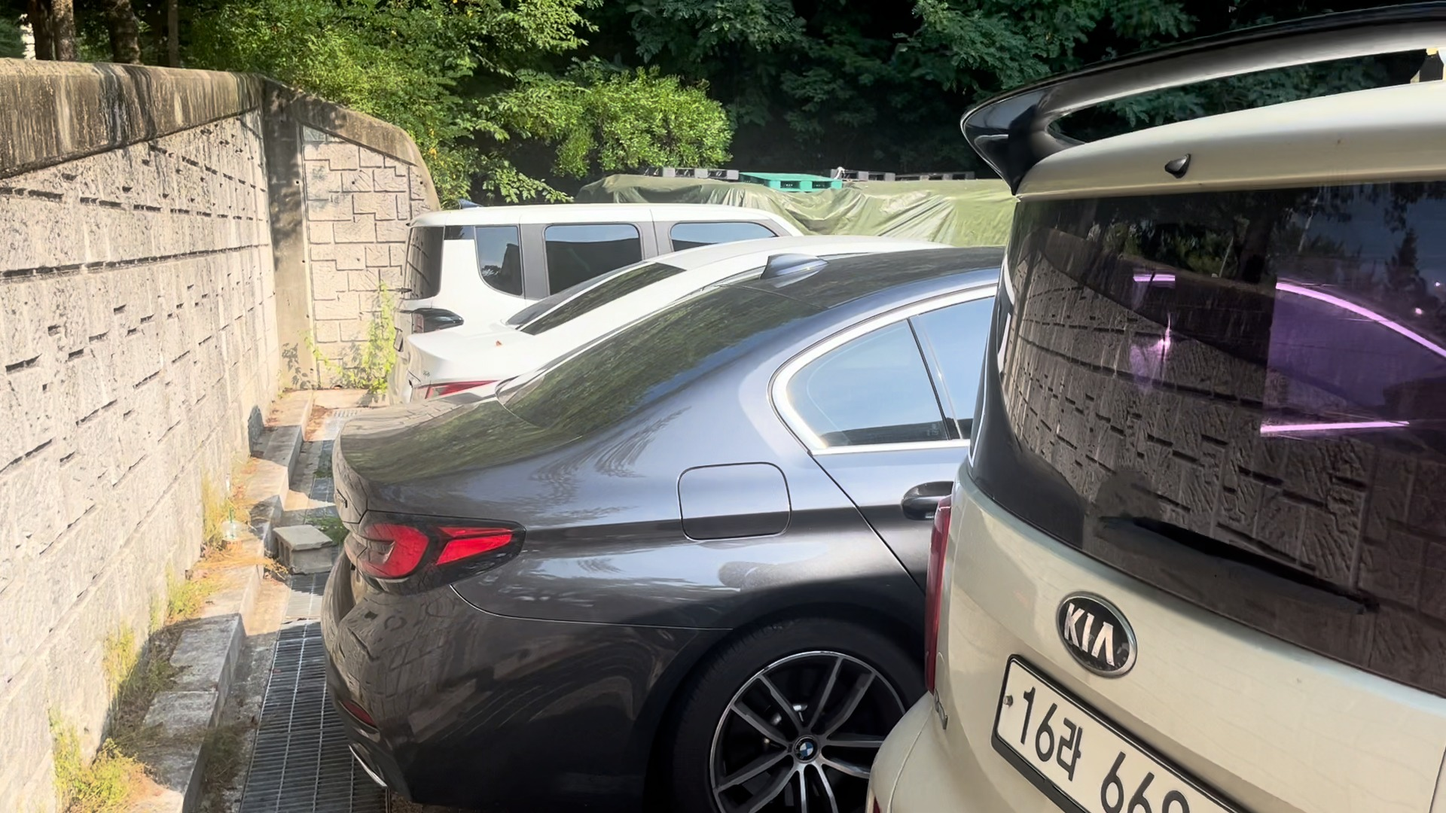car_emblem: (1054, 591, 1135, 676)
license_plate: (993, 649, 1248, 811)
